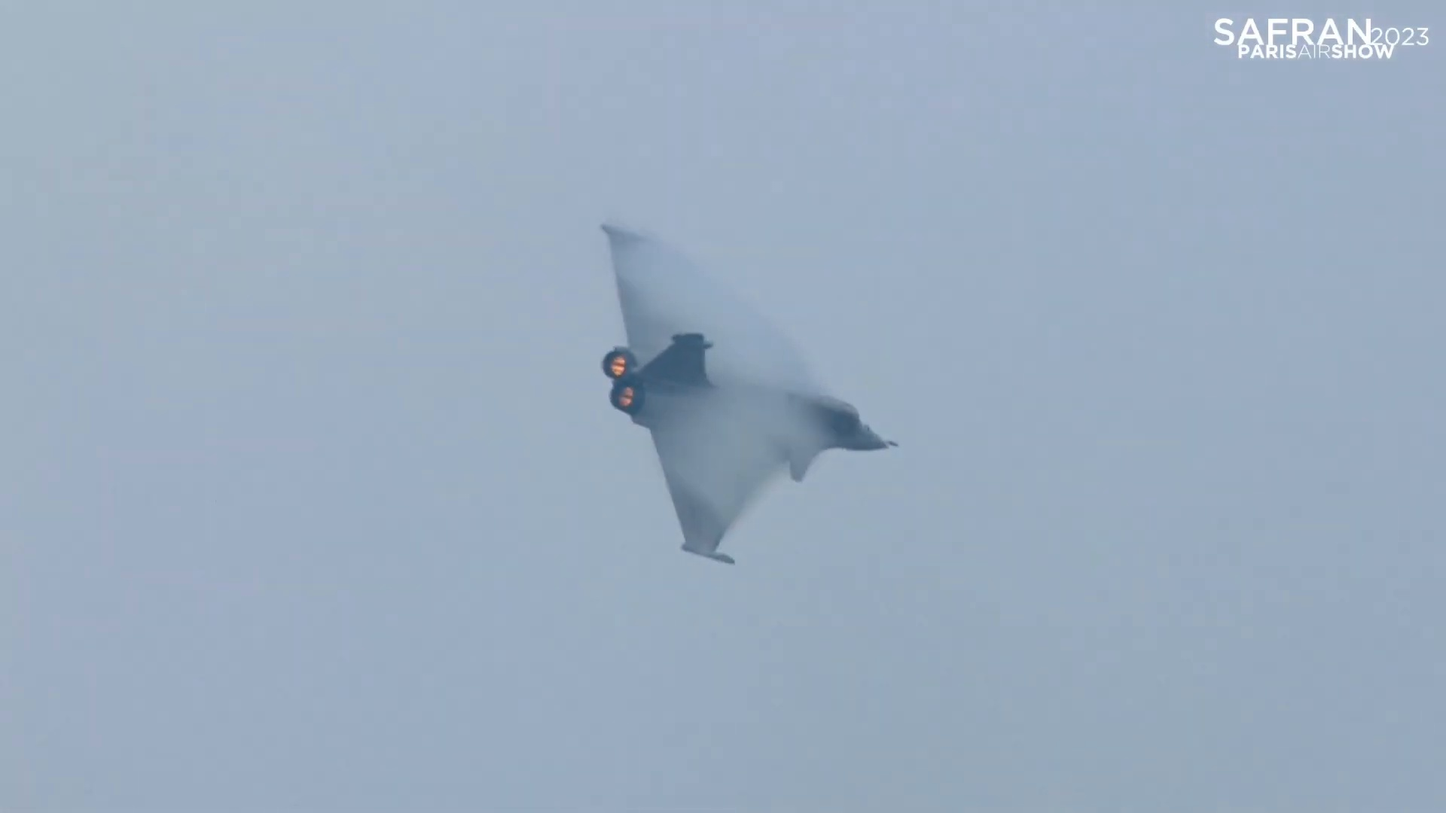Rafale: (589, 202, 909, 576)
